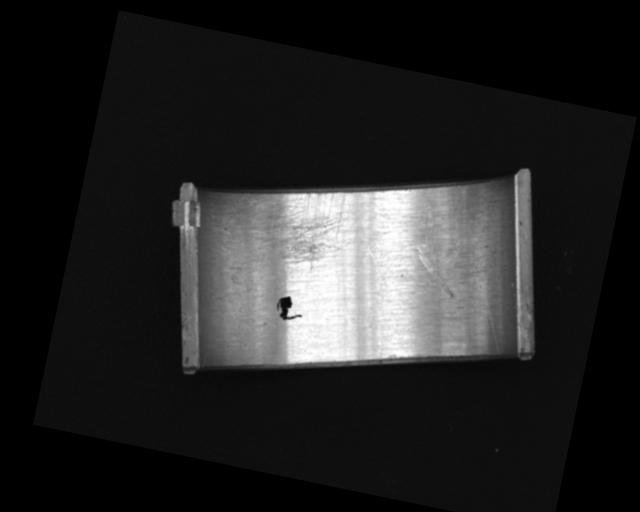blot: (273, 293, 306, 324)
nick: (342, 244, 405, 361), (459, 268, 516, 357), (407, 248, 462, 298), (412, 199, 436, 259)
scratch: (225, 173, 356, 276)
